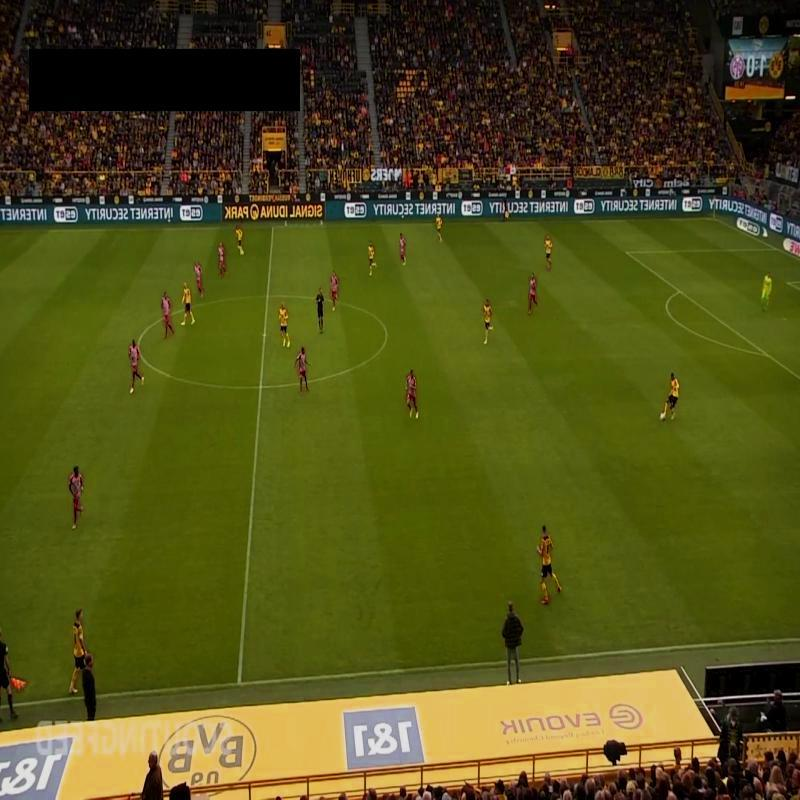1: (706, 212, 720, 226)
10: (672, 285, 686, 299)
11: (760, 346, 772, 364)
13: (266, 220, 280, 234)
14: (262, 288, 276, 301)
15: (255, 378, 268, 392)
16: (232, 672, 248, 692)
2: (769, 243, 784, 256)
7: (782, 276, 796, 290)
9: (620, 246, 635, 260)
c: (130, 334, 145, 356), (380, 328, 394, 342)
